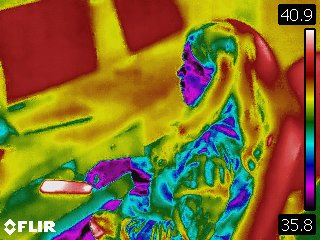human: (85, 19, 278, 240)
